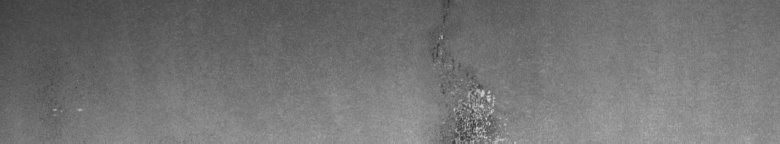hc: (425, 4, 507, 136)
